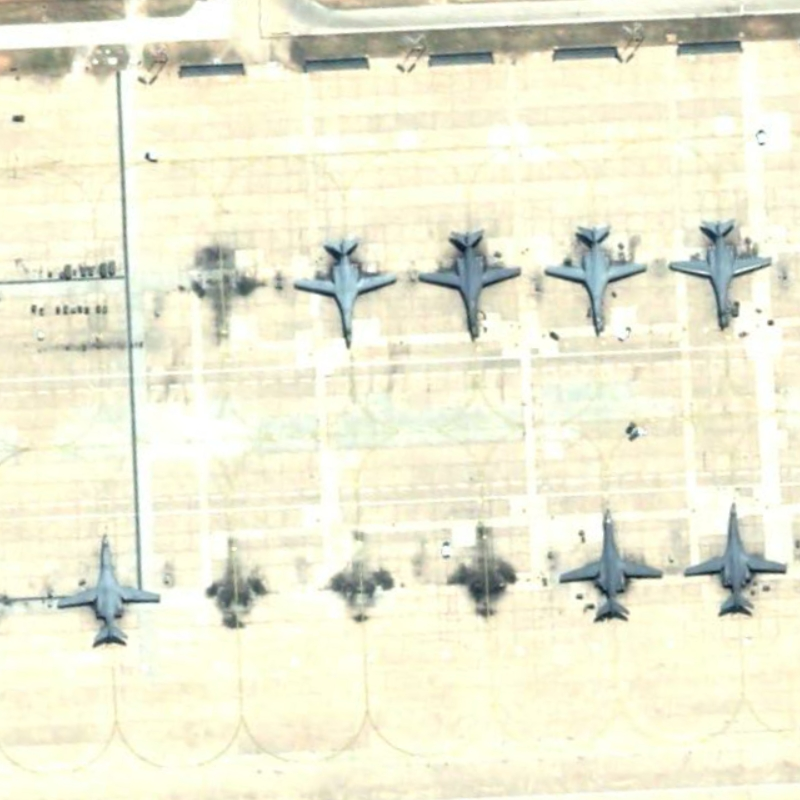A10: (662, 211, 779, 339), (414, 217, 527, 346), (53, 525, 164, 654), (286, 231, 401, 355), (679, 497, 787, 628), (538, 218, 650, 342), (558, 501, 663, 625)
